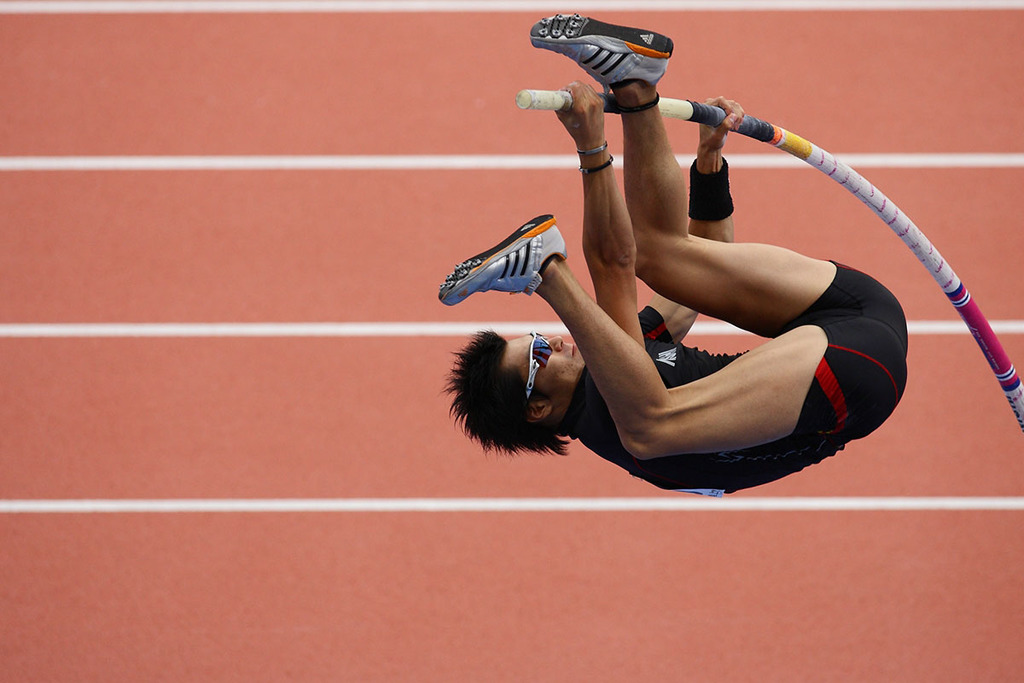Human_hand: (555, 81, 604, 148), (702, 98, 745, 151)
